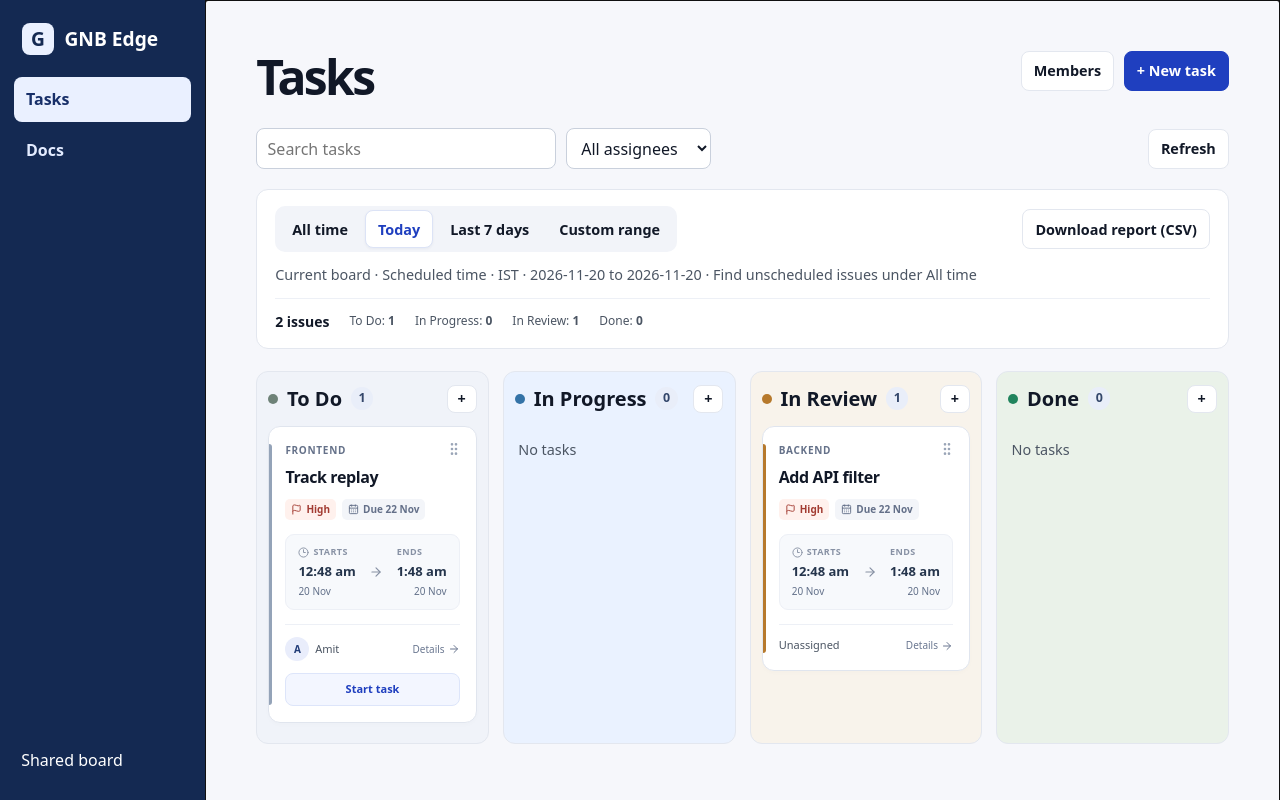
it: Member and document deletion › keeps the member visible if Supabase rejects deletion
The width and height of the screenshot is (1280, 800).
Click the button "Members". click: (1067, 71)
box: [1021,51,1114,91]
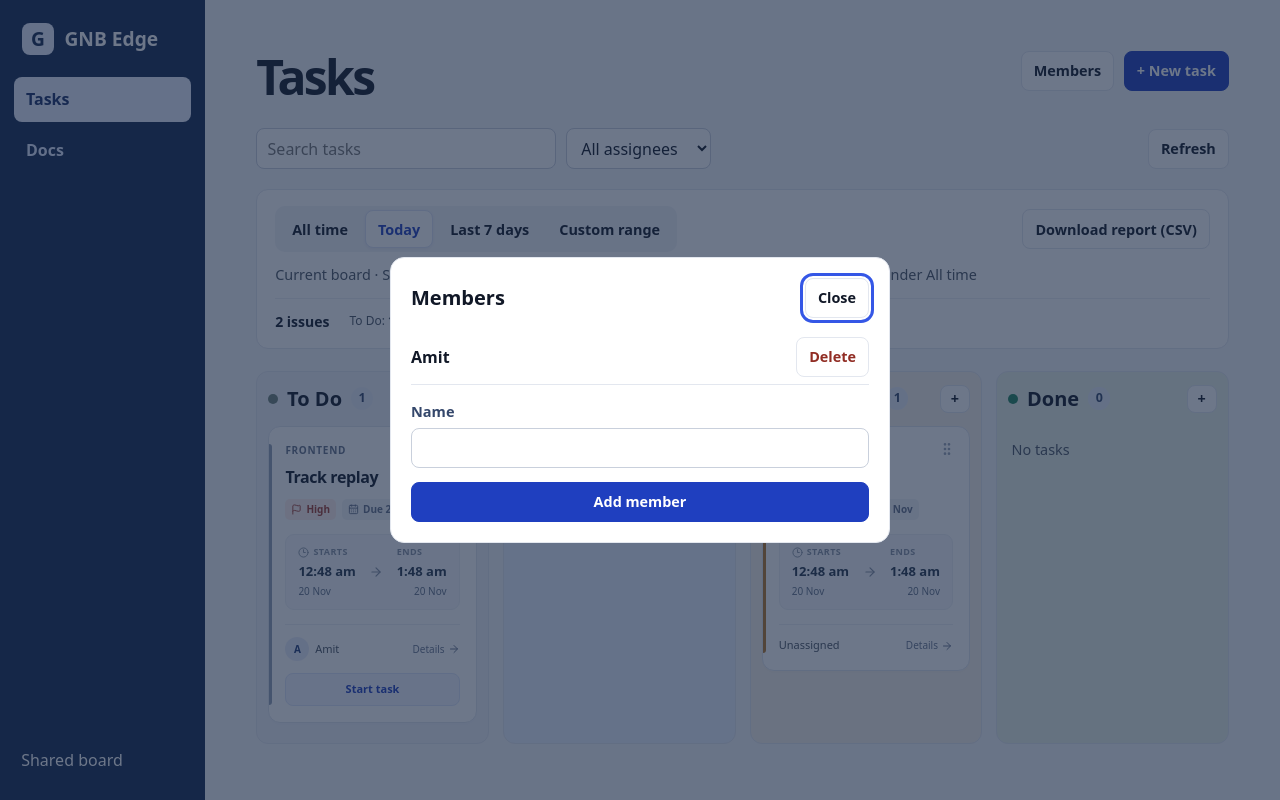
Click the button with aria-label "Delete Amit". click: (833, 357)
box: [796,337,869,377]
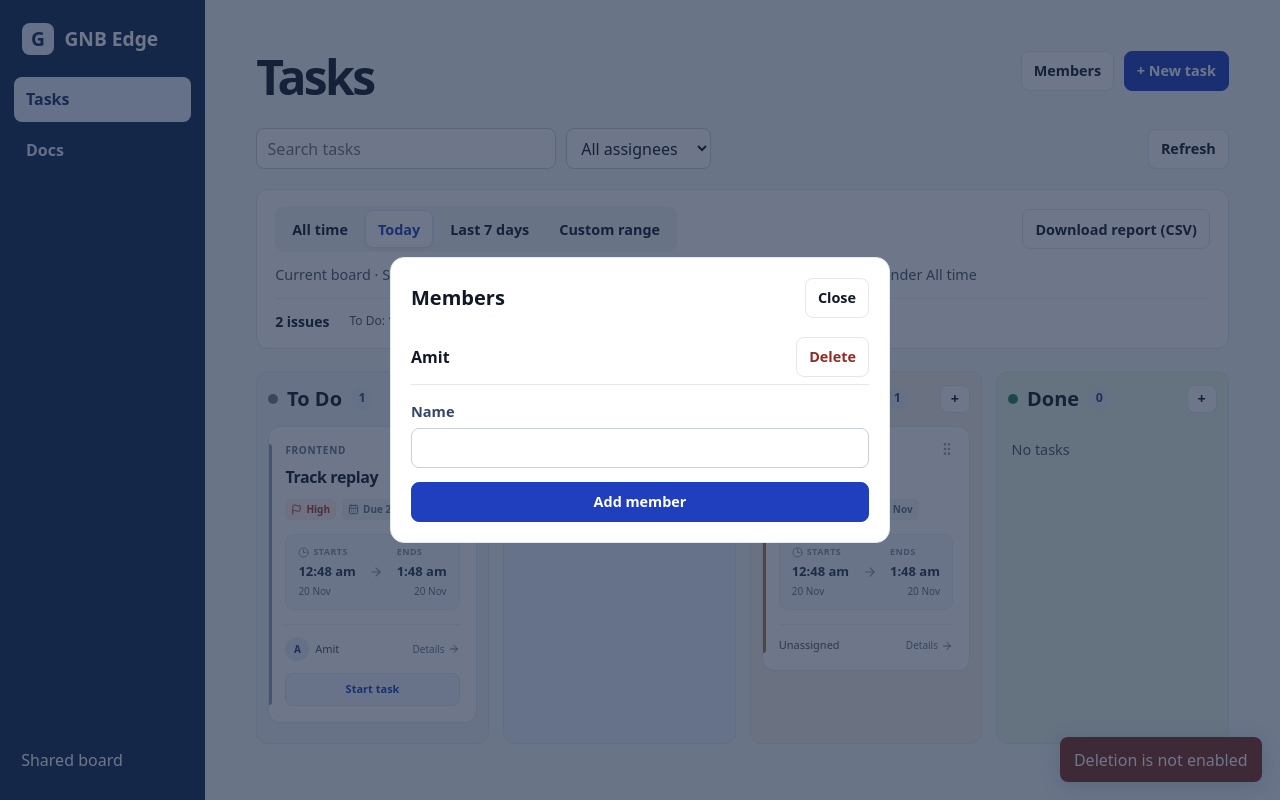
Expected: the button with aria-label "Delete Amit" is shown, [796,337,869,377]
Expected: the text "Deletion is not enabled" is shown, [1060,737,1262,782]
